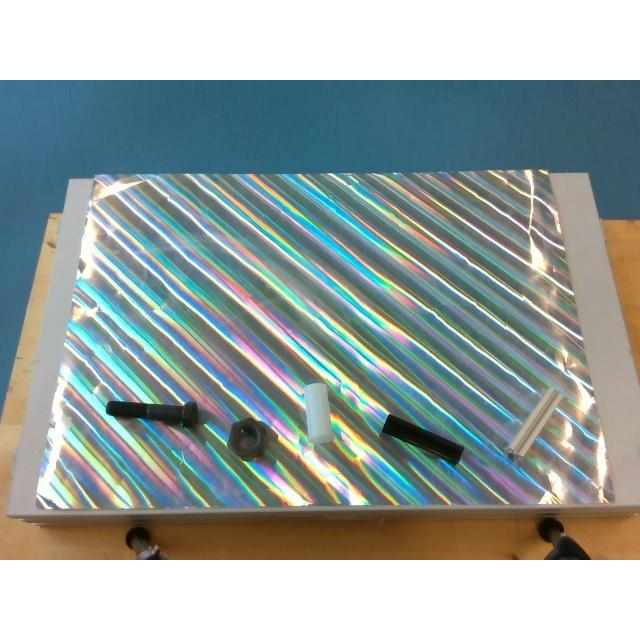F20_20_B: (381, 414, 463, 466)
F20_20_G: (507, 388, 561, 456)
M20_100: (106, 400, 198, 426)
M30: (228, 418, 268, 458)
Spacer: (304, 382, 332, 442)
